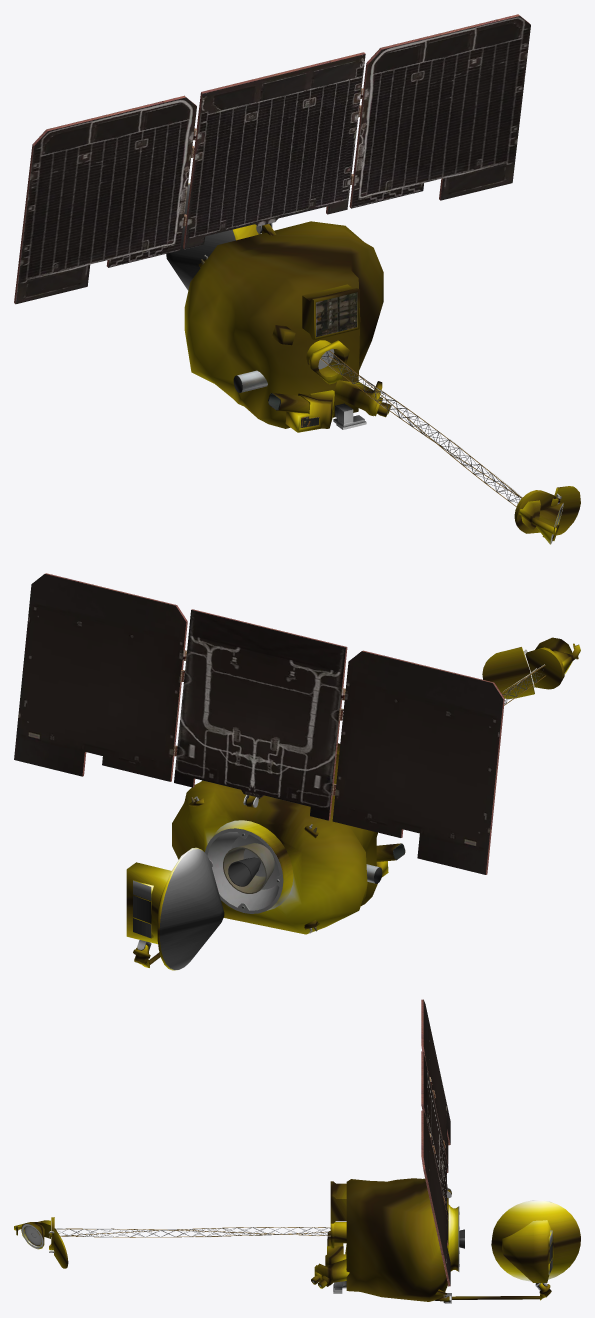
The model's file is odyssey.glb.
3 views of the same model, one above another, from view 1: azimuth 30°, elevation 25°; view 2: azimuth 150°, elevation 25°; view 3: azimuth 270°, elevation 25° (orthographic). The views are drawn at different scales.
Visible parts, largest first — view 1: shiny_panel, foil_gold, tex_boom, tex_01, foil_silver; view 2: tex_01, shiny_panel, foil_gold, foil_silver, tex_04; view 3: foil_gold, tex_01, shiny_panel, tex_boom.
Part boxes in pixels (box(x1,y1,x2,y2)): shiny_panel: box(14, 14, 530, 369); foil_gold: box(184, 183, 580, 544); tex_boom: box(320, 350, 522, 506); tex_01: box(39, 48, 561, 504); foil_silver: box(166, 184, 242, 392); tex_01: box(14, 574, 534, 886); shiny_panel: box(45, 573, 504, 913); foil_gold: box(126, 637, 580, 970); foil_silver: box(133, 849, 382, 969); tex_04: box(191, 797, 378, 931); foil_gold: box(14, 1178, 580, 1301); tex_01: box(48, 1000, 545, 1301); shiny_panel: box(421, 999, 459, 1286); tex_boom: box(56, 1227, 330, 1237).
Size of the model in its own units: 5.67 by 3.36 by 8.22.
9 materials, 9 textured.
